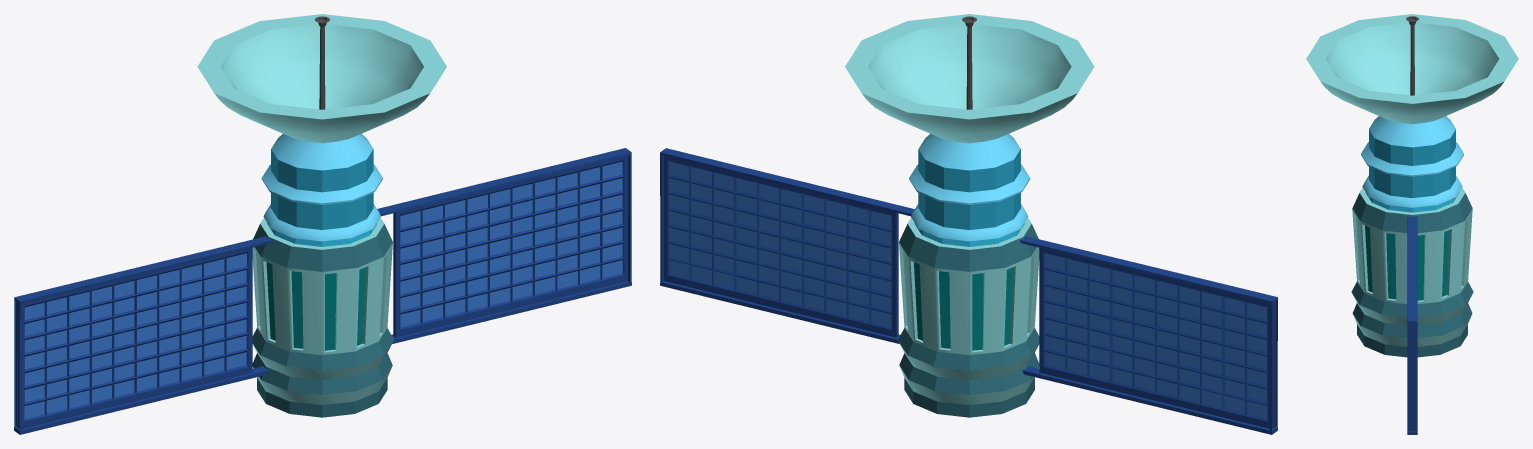
Rendered from satellite.glb.
3 views of the same model, side by side, from view 1: azimuth 30°, elevation 25°; view 2: azimuth 150°, elevation 25°; view 3: azimuth 270°, elevation 25° (orthographic). The views are drawn at different scales.
Visible parts, largest first — view 1: Cylinder_1, Cylinder.001_2, Cylinder.003_4, Cylinder.004_5, Cylinder.002_3, Cylinder.007_8, Cylinder.006_7, Cylinder.005_6, Cylinder.008_9, Cylinder.009_10; view 2: Cylinder_1, Cylinder.001_2, Cylinder.003_4, Cylinder.004_5, Cylinder.002_3, Cylinder.007_8, Cylinder.006_7, Cylinder.005_6, Cylinder.008_9, Cylinder.009_10; view 3: Cylinder_1, Cylinder.007_8, Cylinder.006_7, Cylinder.005_6, Cylinder.002_3, Cylinder.008_9, Cylinder.009_10.
Part boxes in pixels (x1=…): Cylinder_1: x1=197, y1=14, x2=446, y2=405; Cylinder.001_2: x1=400, y1=161, x2=622, y2=327; Cylinder.003_4: x1=24, y1=253, x2=246, y2=419; Cylinder.004_5: x1=14, y1=236, x2=282, y2=434; Cylinder.002_3: x1=377, y1=148, x2=631, y2=343; Cylinder.007_8: x1=252, y1=223, x2=393, y2=417; Cylinder.006_7: x1=261, y1=134, x2=382, y2=241; Cylinder.005_6: x1=267, y1=141, x2=377, y2=246; Cylinder.008_9: x1=266, y1=244, x2=365, y2=350; Cylinder.009_10: x1=297, y1=16, x2=355, y2=394; Cylinder_1: x1=845, y1=14, x2=1094, y2=405; Cylinder.001_2: x1=669, y1=161, x2=891, y2=327; Cylinder.003_4: x1=1045, y1=253, x2=1267, y2=419; Cylinder.004_5: x1=1009, y1=236, x2=1277, y2=434; Cylinder.002_3: x1=660, y1=148, x2=917, y2=343; Cylinder.007_8: x1=898, y1=224, x2=1039, y2=417; Cylinder.006_7: x1=909, y1=134, x2=1030, y2=241; Cylinder.005_6: x1=914, y1=141, x2=1024, y2=246; Cylinder.008_9: x1=914, y1=243, x2=1013, y2=350; Cylinder.009_10: x1=923, y1=16, x2=994, y2=405; Cylinder_1: x1=1306, y1=14, x2=1518, y2=346; Cylinder.007_8: x1=1351, y1=193, x2=1473, y2=357; Cylinder.006_7: x1=1361, y1=116, x2=1463, y2=207; Cylinder.005_6: x1=1365, y1=123, x2=1459, y2=212; Cylinder.002_3: x1=1407, y1=216, x2=1417, y2=434; Cylinder.008_9: x1=1365, y1=212, x2=1449, y2=300; Cylinder.009_10: x1=1384, y1=16, x2=1440, y2=335.
Bounding box in the file's own units: 2 × 1.18 × 0.7069.
